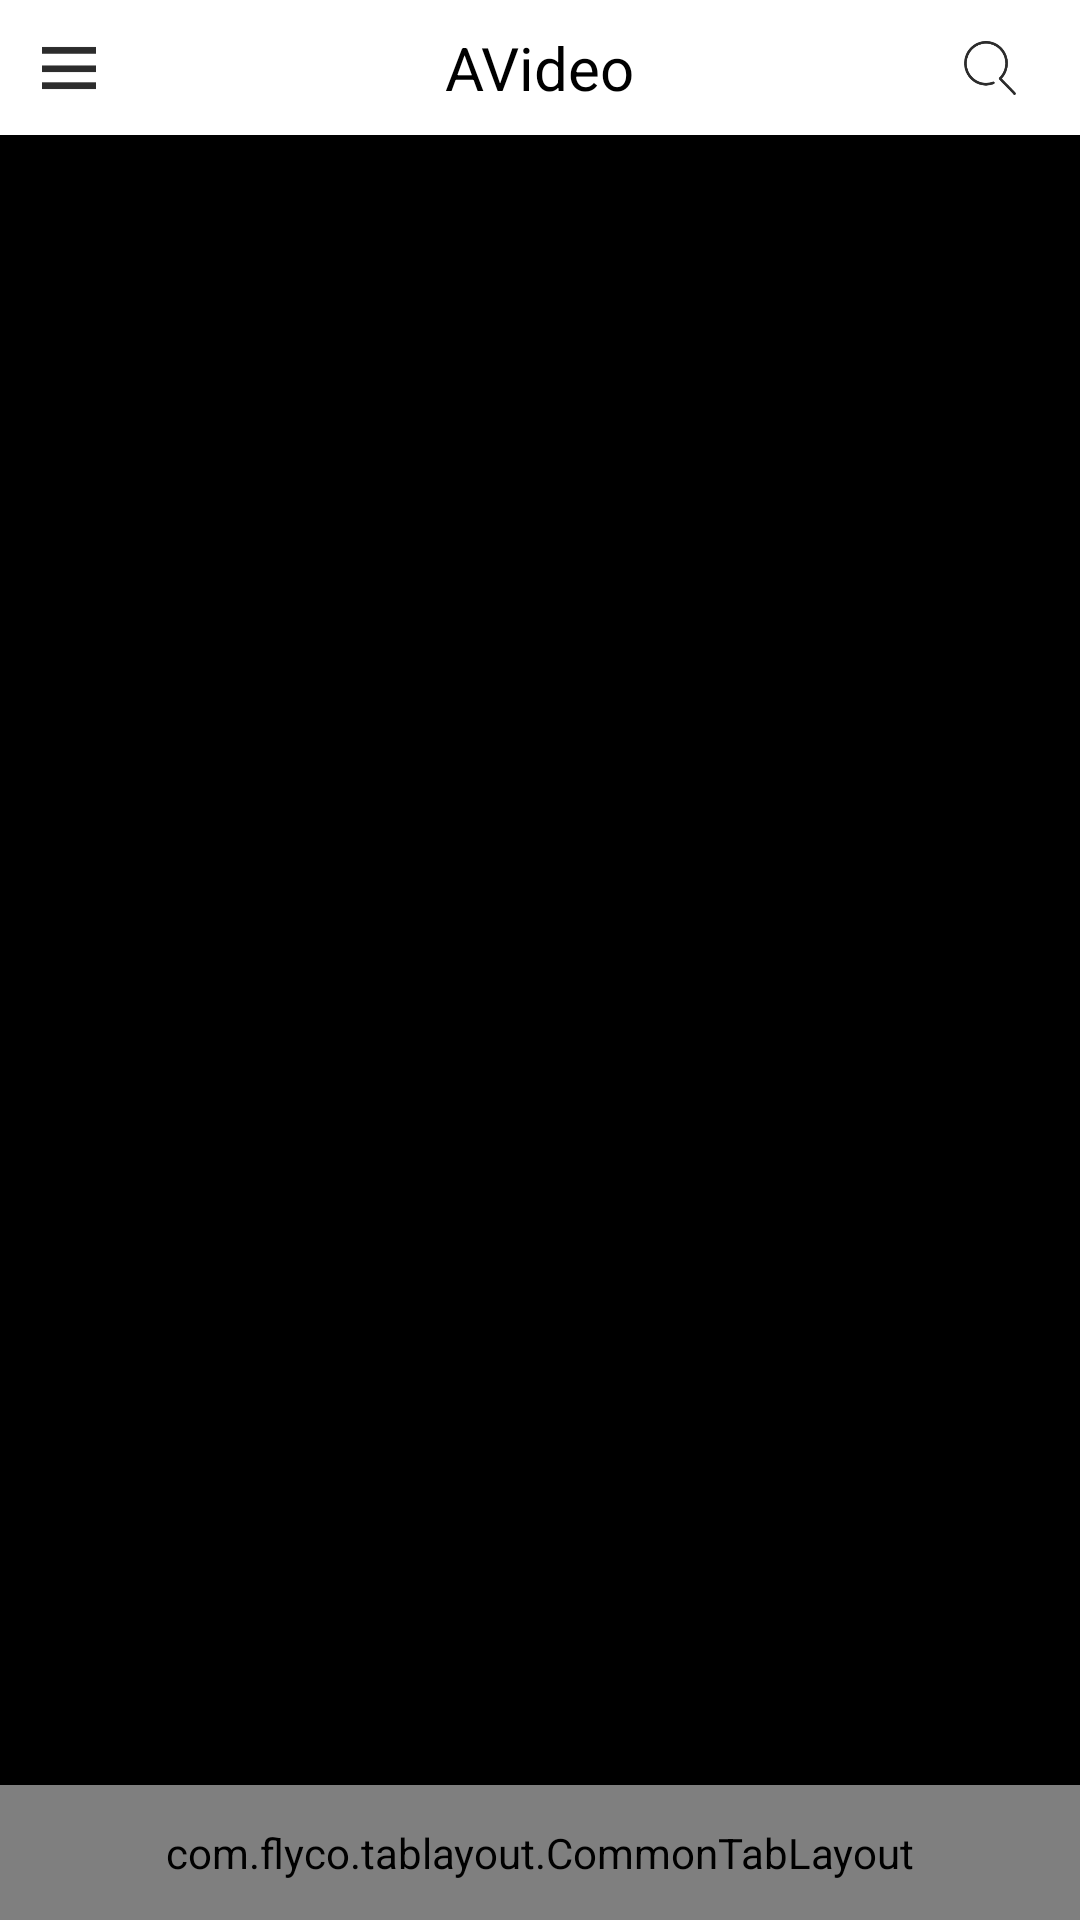

Locate icon controls on the screen. Image size 1080*1920, boxes as box=[x1, y1, x2, y2].
menu: box=[42, 47, 96, 89]
search: box=[964, 41, 1016, 95]
